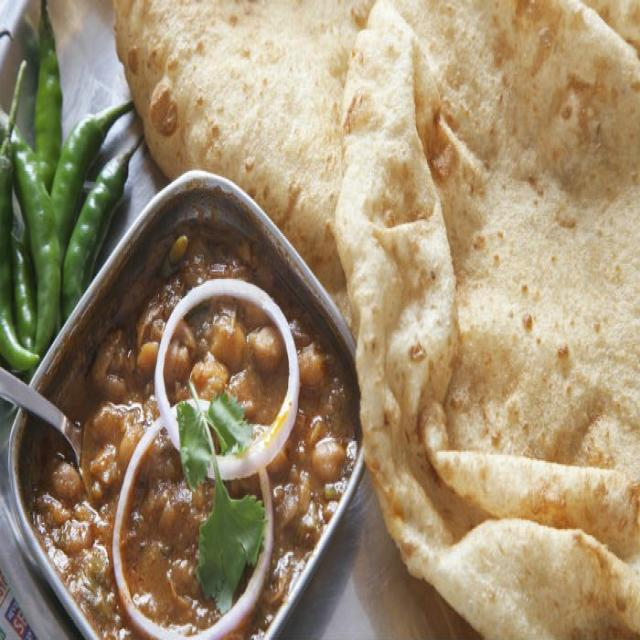Bhatura: (106, 0, 640, 640)
Chole: (34, 196, 362, 640)
